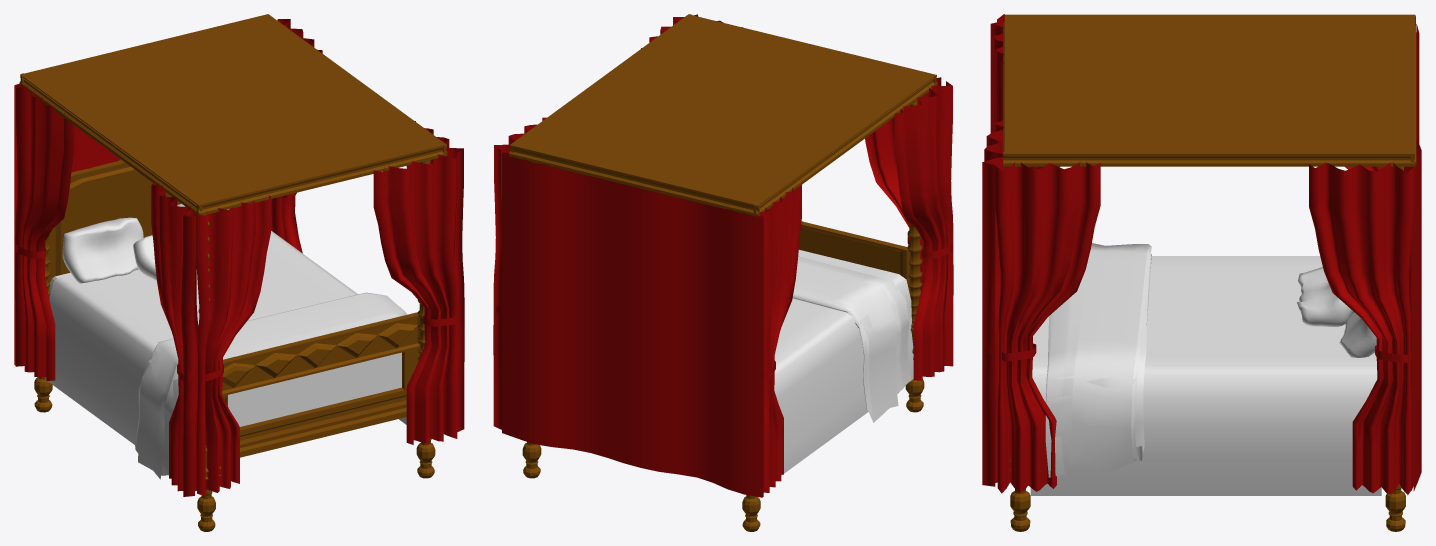
Rendered from Bed.fbx.
The picture shows the model from 3 angles, left to right: view 1: azimuth 30°, elevation 25°; view 2: azimuth 150°, elevation 25°; view 3: azimuth 270°, elevation 25°; orthographic projection. The views are drawn at different scales.
Visible parts, largest first — view 1: Canopy, BedBottom, Sheets, pPlane32, pPlane30, pPlane7, Blankets, pPlane16, Matress, pCube14, pPlane18, pPlane12 (+5 smaller); view 2: pPlane12, Canopy, Sheets, pPlane16, Blankets, pPlane7, BedBottom, pPlane9, pPlane30, Leg1, Leg2, Leg3; view 3: Canopy, Sheets, pPlane9, pPlane18, Blankets, pPlane32, pPlane12, pCube16, pPlane30, pCube15, Leg3, Leg.
Part boxes in pixels (left/top/right/bottom): Canopy: left=19, top=14, right=447, bottom=215; BedBottom: left=48, top=159, right=420, bottom=457; Sheets: left=45, top=231, right=406, bottom=444; pPlane32: left=373, top=154, right=457, bottom=444; pPlane30: left=195, top=195, right=271, bottom=496; pPlane7: left=15, top=83, right=74, bottom=380; Blankets: left=135, top=292, right=406, bottom=479; pPlane16: left=151, top=181, right=198, bottom=496; Matress: left=49, top=272, right=401, bottom=426; pCube14: left=62, top=217, right=143, bottom=283; pPlane18: left=406, top=121, right=464, bottom=431; pPlane12: left=14, top=83, right=272, bottom=365; pPlane12: left=502, top=152, right=763, bottom=497; Canopy: left=509, top=14, right=937, bottom=216; Sheets: left=774, top=250, right=913, bottom=475; pPlane16: left=894, top=81, right=953, bottom=380; Blankets: left=792, top=256, right=911, bottom=422; pPlane7: left=759, top=180, right=801, bottom=492; BedBottom: left=798, top=221, right=910, bottom=292; pPlane9: left=493, top=117, right=546, bottom=429; pPlane30: left=865, top=77, right=941, bottom=290; Leg1: left=905, top=100, right=924, bottom=412; Leg2: left=742, top=495, right=760, bottom=531; Leg3: left=522, top=162, right=541, bottom=478; Canopy: left=1003, top=14, right=1416, bottom=166; Sheets: left=1030, top=256, right=1381, bottom=495; pPlane9: left=1309, top=162, right=1414, bottom=494; pPlane18: left=995, top=162, right=1100, bottom=493; Blankets: left=1045, top=243, right=1151, bottom=477; pPlane32: left=982, top=121, right=1008, bottom=486; pPlane12: left=1404, top=24, right=1421, bottom=491; pCube16: left=1297, top=267, right=1353, bottom=326; pPlane30: left=990, top=21, right=1003, bottom=133; pCube15: left=1339, top=312, right=1376, bottom=357; Leg3: left=1385, top=166, right=1405, bottom=531; Leg: left=1010, top=459, right=1030, bottom=531.
Bounding box in the file's own units: 2.55 × 2.86 × 2.98.
